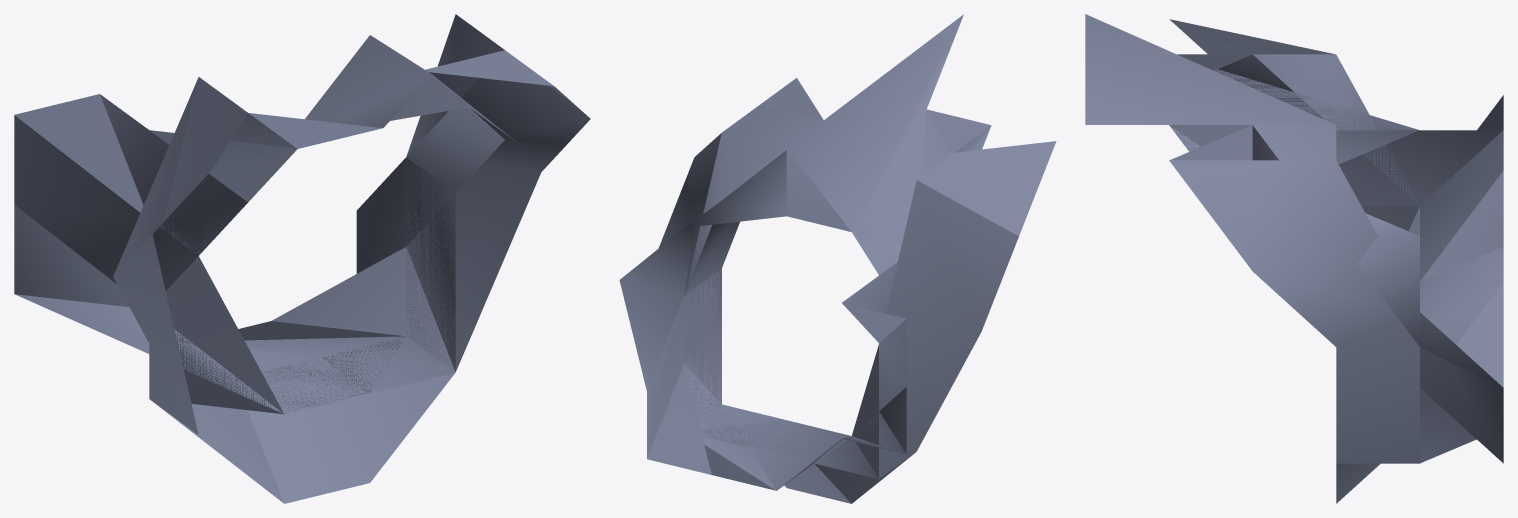
The model's file is m_jet_68755a3e.glb.
The picture shows the model from 3 angles, left to right: view 1: azimuth 30°, elevation 25°; view 2: azimuth 150°, elevation 25°; view 3: azimuth 270°, elevation 25°; orthographic projection. The views are drawn at different scales.
Parts seen in each view (by area): view 1: mesh; view 2: mesh; view 3: mesh.
Boxes of the visible parts, left/top/right/bottom form: mesh: left=14, top=14, right=590, bottom=503; mesh: left=619, top=14, right=1056, bottom=503; mesh: left=1085, top=14, right=1503, bottom=503.
Size of the model in its own units: 5 by 6 by 5.
